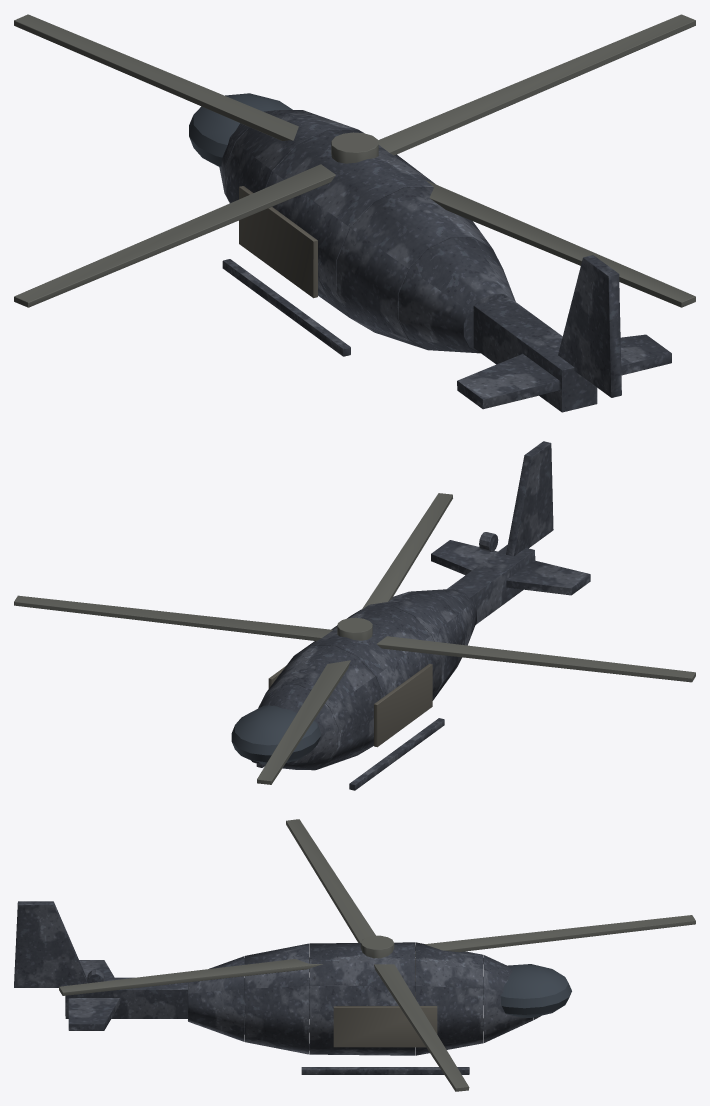
The model's file is hel_e2_us_transport_LOD1.glb.
3 renders of one model, top to bottom at view 1: azimuth 30°, elevation 25°; view 2: azimuth 150°, elevation 25°; view 3: azimuth 270°, elevation 25°, orthographic. The views are drawn at different scales.
Parts seen in each view (by area): view 1: hel_e2_us_transport_LOD1_body, hel_e2_us_transport_LOD1_gun, hel_e2_us_transport_LOD1_deck, hel_e2_us_transport_LOD1_glass; view 2: hel_e2_us_transport_LOD1_body, hel_e2_us_transport_LOD1_gun, hel_e2_us_transport_LOD1_glass, hel_e2_us_transport_LOD1_deck; view 3: hel_e2_us_transport_LOD1_body, hel_e2_us_transport_LOD1_gun, hel_e2_us_transport_LOD1_deck, hel_e2_us_transport_LOD1_glass.
Boxes of the visible parts, x1,y1,x2,y2 form: hel_e2_us_transport_LOD1_body: (219,110,671,412); hel_e2_us_transport_LOD1_gun: (14,14,695,307); hel_e2_us_transport_LOD1_deck: (239,186,317,298); hel_e2_us_transport_LOD1_glass: (189,93,292,167); hel_e2_us_transport_LOD1_body: (251,441,590,790); hel_e2_us_transport_LOD1_gun: (14,493,695,784); hel_e2_us_transport_LOD1_glass: (231,705,320,764); hel_e2_us_transport_LOD1_deck: (268,663,432,747); hel_e2_us_transport_LOD1_body: (14,901,541,1074); hel_e2_us_transport_LOD1_gun: (59,819,695,1091); hel_e2_us_transport_LOD1_deck: (333,958,437,1047); hel_e2_us_transport_LOD1_glass: (483,964,571,1017).
Bounding box in the file's own units: 15.92 × 4.13 × 17.05.
4 materials, 1 textured.
